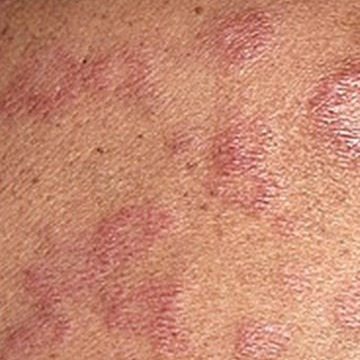Leprosy: (0, 196, 198, 359), (0, 26, 171, 123), (196, 104, 282, 213), (296, 49, 359, 164), (199, 0, 285, 70), (216, 304, 298, 359), (326, 268, 359, 339), (273, 251, 319, 293)
